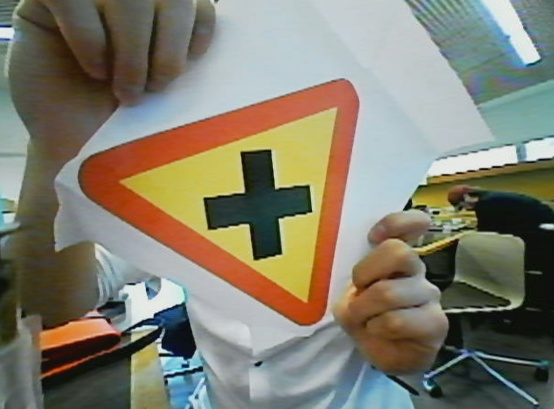junction: (100, 107, 337, 325)
